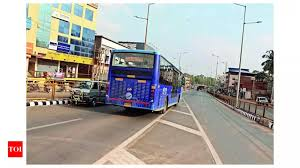Car: (69, 78, 105, 108)
Chigari: (101, 42, 187, 114)
